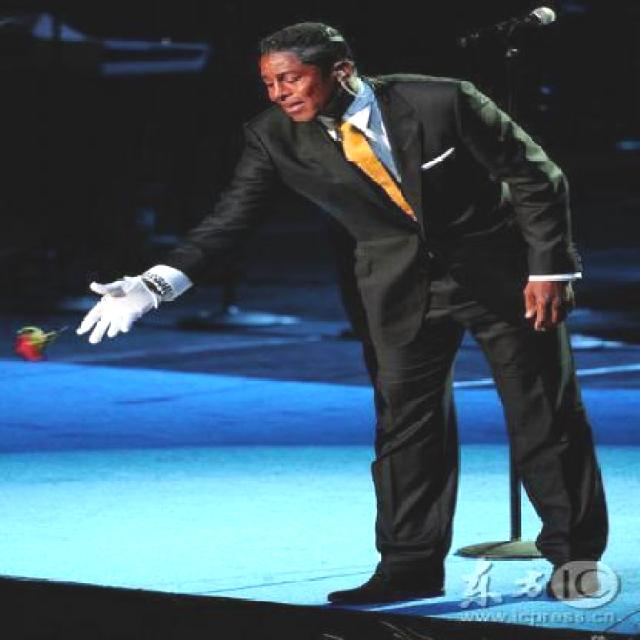face_nomask: (262, 63, 310, 122)
hand_glove: (68, 272, 163, 346)
hand_noglove: (518, 278, 577, 331)
head_nohelmet: (245, 23, 346, 65)
person: (52, 19, 623, 618)
shoes: (320, 556, 451, 613)
